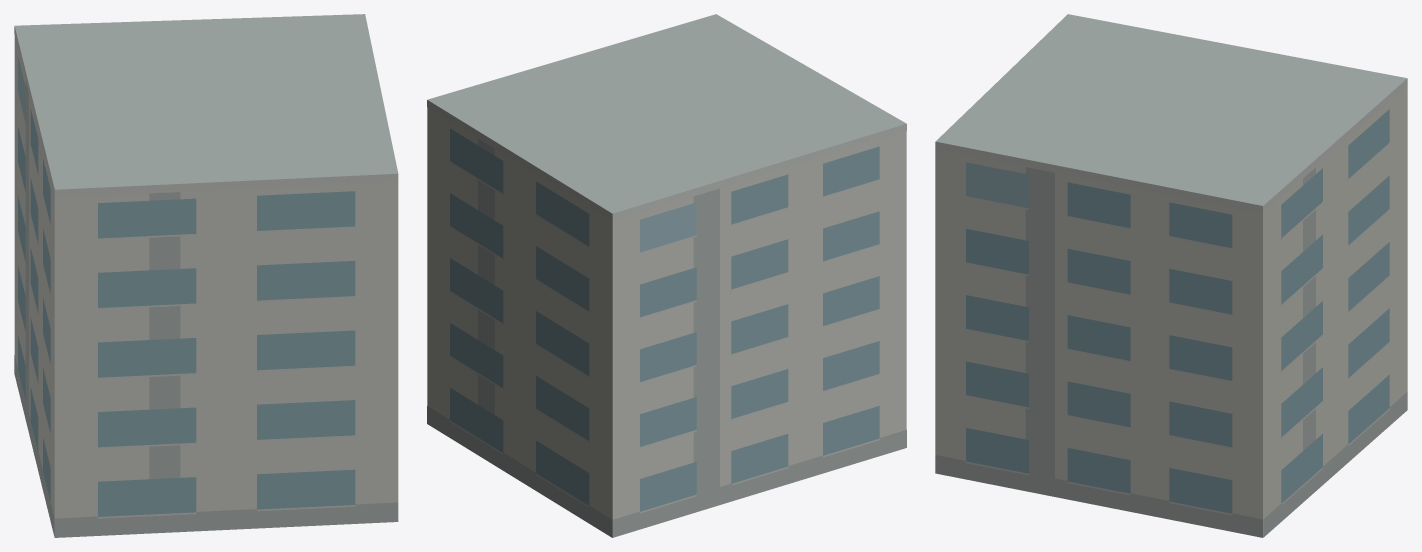
File: survey-upis-32531579.glb
3 views of the same model, side by side, from view 1: azimuth 30°, elevation 25°; view 2: azimuth 150°, elevation 25°; view 3: azimuth 270°, elevation 25° (orthographic). The views are drawn at different scales.
Visible parts, largest first — view 1: survey-upis-32531579.tmp; view 2: survey-upis-32531579.tmp; view 3: survey-upis-32531579.tmp.
Boxes of the visible parts, bbox=[...] form: survey-upis-32531579.tmp: bbox=[14, 14, 398, 537]; survey-upis-32531579.tmp: bbox=[427, 14, 906, 537]; survey-upis-32531579.tmp: bbox=[935, 14, 1407, 537].
Bounding box in the file's own units: 12.91 × 10.4 × 13.42.
